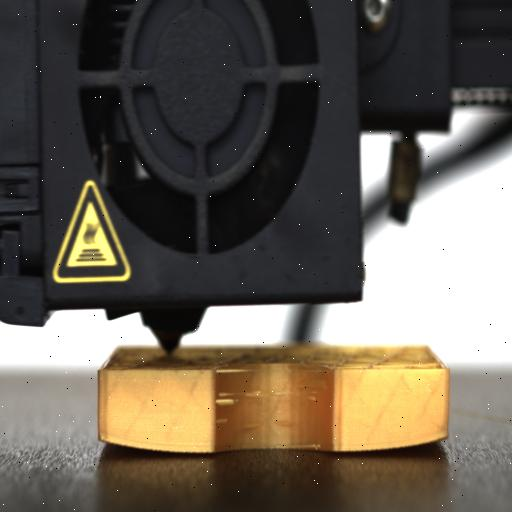warp: (329, 428, 452, 454), (95, 435, 216, 455)
